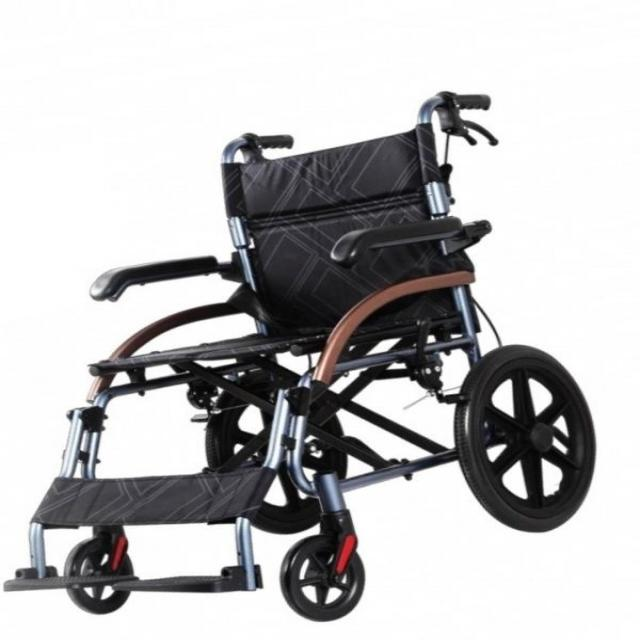wheelchair: (1, 83, 637, 632)
